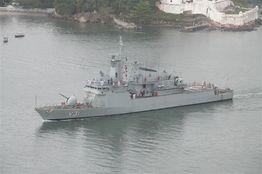warship: (33, 38, 237, 123)
